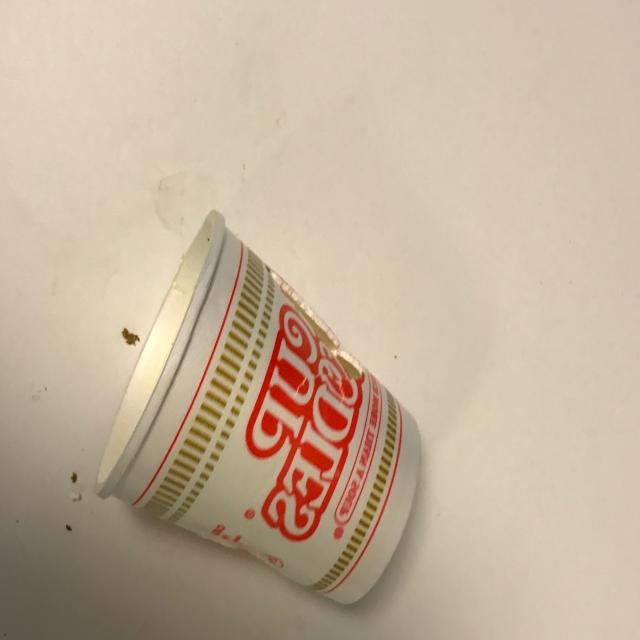trash: (95, 208, 422, 606)
